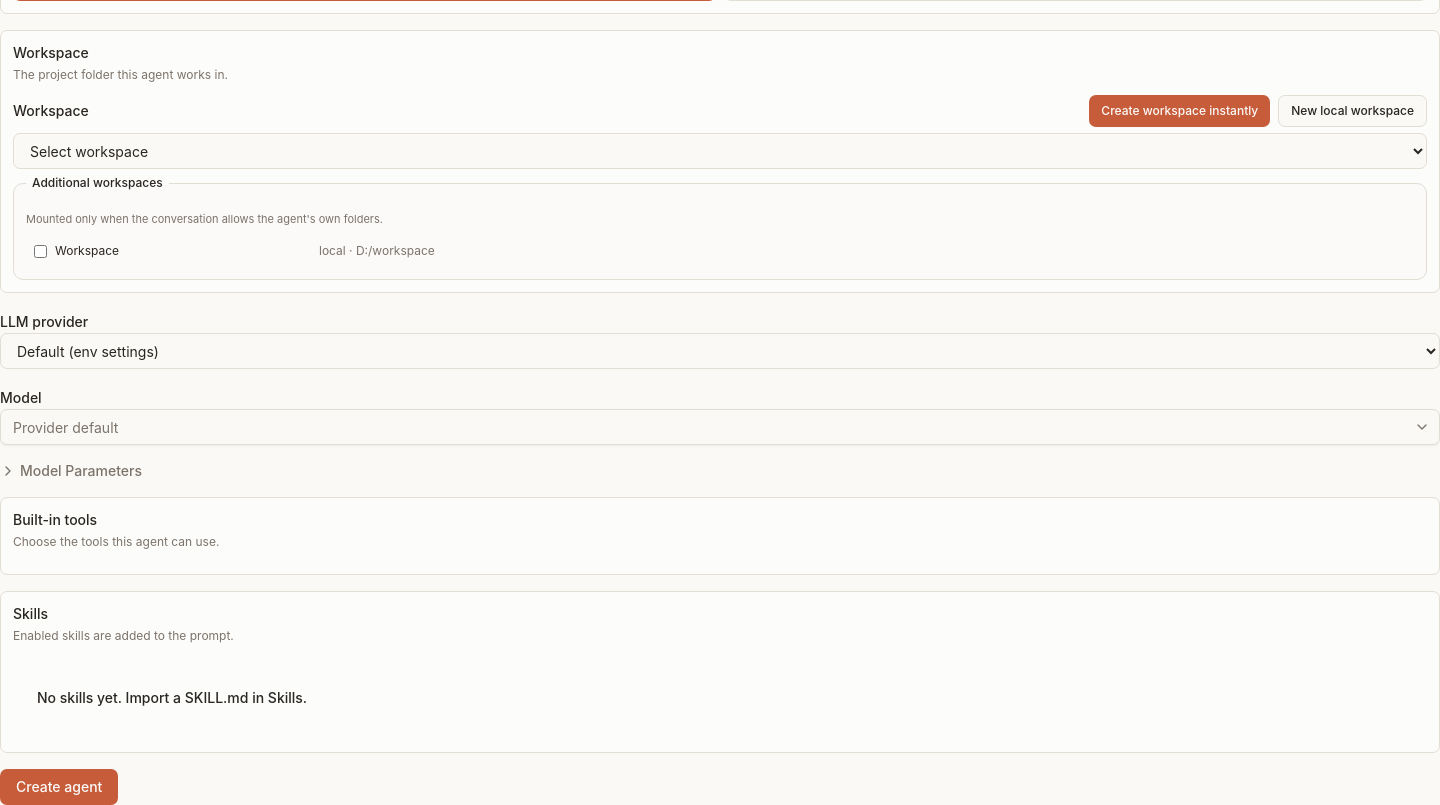
Test: agent runtime capabilities › starts the create form image input control enabled
(page scrolled)
Click the button "Model Parameters" at (71, 471), box [0,461,142,481]
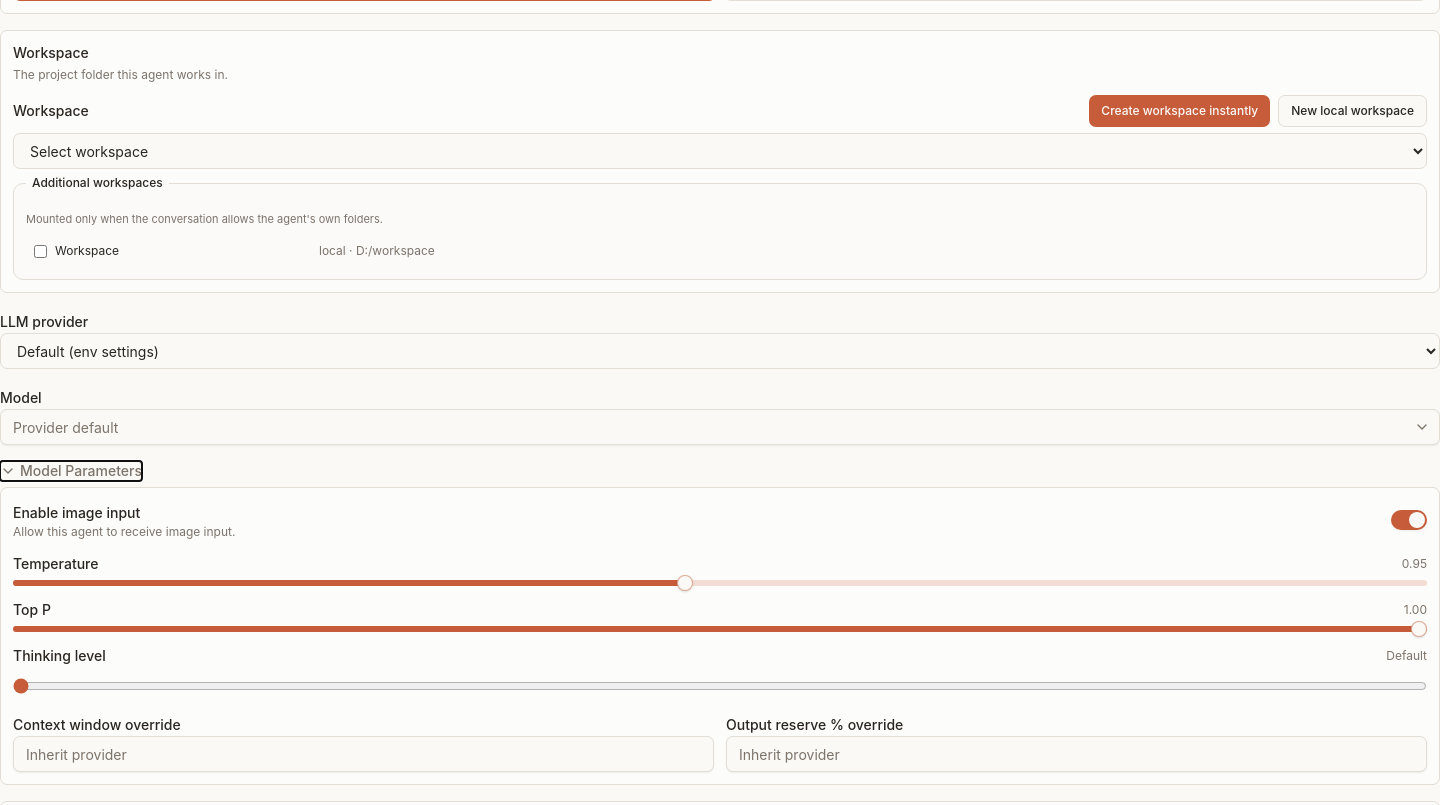
Check: the switch named "Enable image input" is checked, box [1391,510,1427,530]
